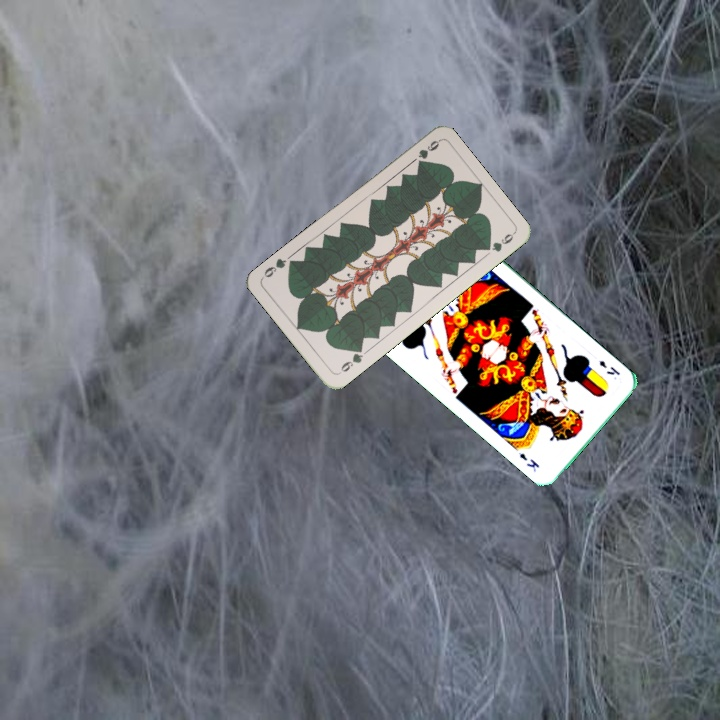EK: (595, 356, 623, 378)
G9: (334, 343, 366, 377), (414, 136, 442, 167)
